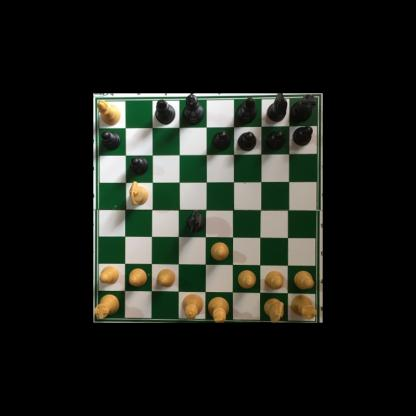black-bishop: (235, 95, 256, 123), (155, 96, 176, 123)
black-king: (181, 94, 203, 125)
black-knight: (268, 94, 288, 123), (186, 207, 204, 233)
black-pawn: (99, 130, 120, 151), (210, 130, 231, 151), (265, 130, 285, 151), (292, 126, 313, 146), (128, 156, 148, 176), (237, 131, 257, 151)
black-rook: (289, 94, 316, 123)
white-bishop: (96, 99, 122, 126)
white-king: (205, 295, 229, 323)
white-knight: (263, 297, 286, 323), (128, 180, 149, 207)
white-pawn: (236, 268, 256, 290), (156, 268, 177, 288), (264, 271, 285, 291), (293, 270, 314, 290), (128, 267, 148, 287), (99, 266, 120, 285), (210, 242, 230, 261)
white-queen: (180, 292, 203, 320)
white-rook: (94, 292, 120, 319), (289, 293, 316, 319)
